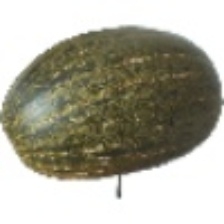honeydew: (3, 13, 204, 177)
